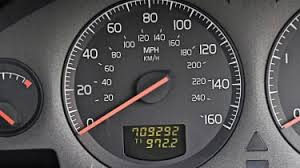Digital_Meter: (120, 125, 191, 152)
